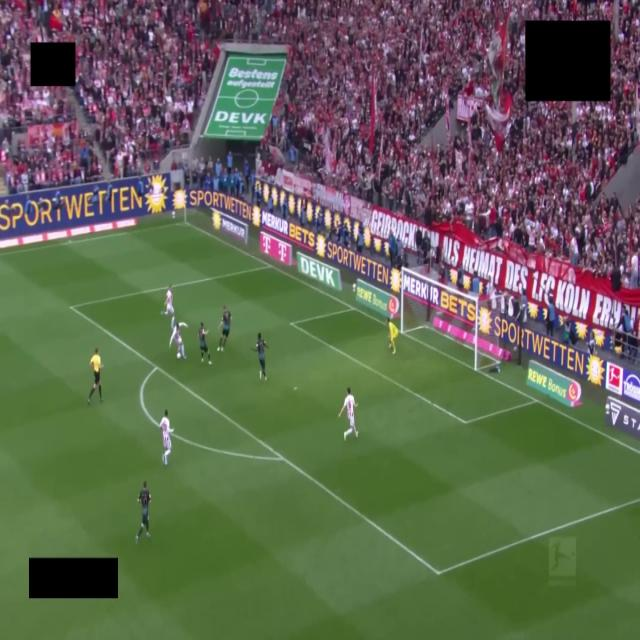ball: (177, 353, 181, 359)
player: (339, 388, 357, 440), (136, 481, 151, 543), (160, 410, 173, 465), (169, 322, 187, 359), (217, 306, 231, 351), (254, 333, 267, 381), (162, 286, 175, 329), (198, 322, 211, 365), (387, 319, 398, 353)
referee: (88, 348, 102, 404)
